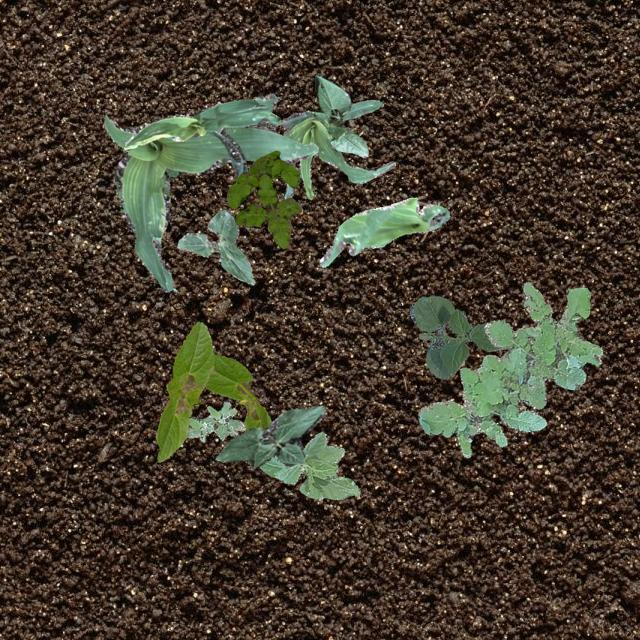crop: (102, 92, 316, 290), (123, 98, 280, 178), (280, 98, 394, 198), (318, 197, 448, 266), (409, 294, 512, 378), (154, 320, 213, 460), (214, 404, 324, 466), (258, 431, 358, 498), (176, 208, 254, 284), (203, 354, 270, 431), (312, 74, 368, 156)
weed: (416, 282, 602, 456), (226, 150, 300, 248), (187, 400, 244, 440)
